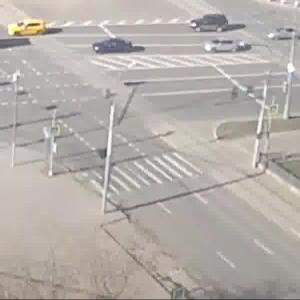car: (6, 20, 53, 42), (85, 38, 134, 58), (194, 11, 232, 33), (202, 39, 252, 55), (270, 30, 300, 46)
